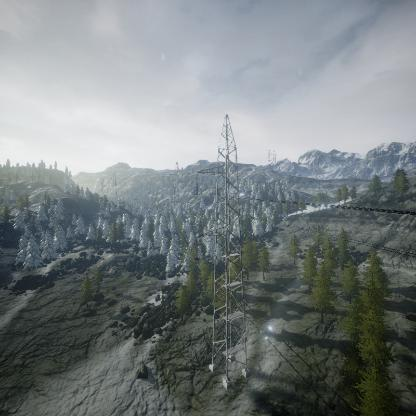tower: (191, 111, 260, 391)
